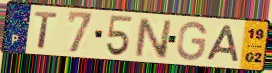5: (105, 14, 135, 58)
7: (67, 9, 94, 55)
A: (205, 24, 241, 64)
G: (175, 21, 209, 63)
N: (134, 16, 173, 60)
T: (33, 10, 60, 51)
